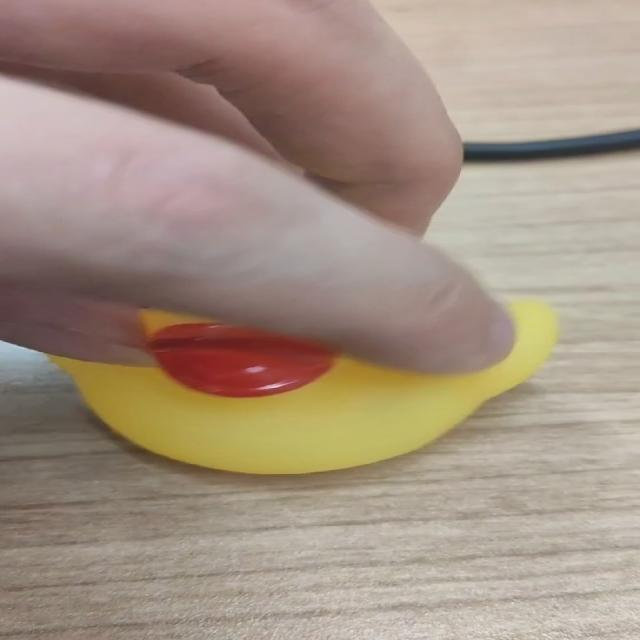rubber-duck: (50, 299, 556, 472)
